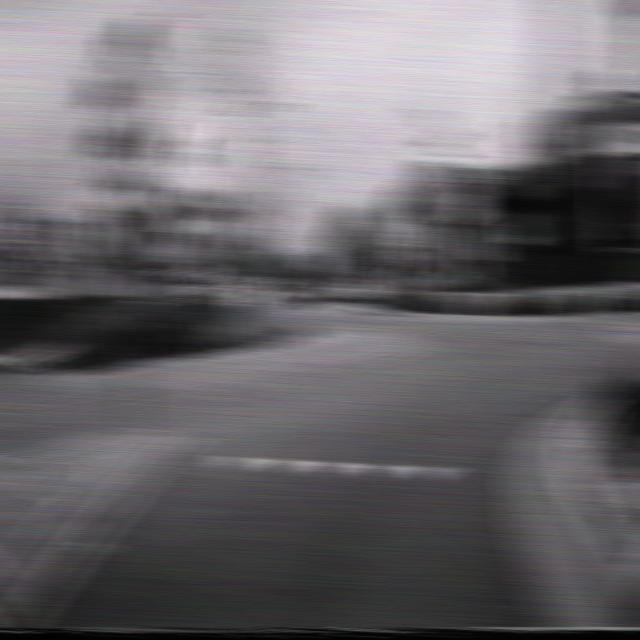pedestrianCrossing: (379, 217, 412, 249)
yield: (102, 72, 162, 154)
